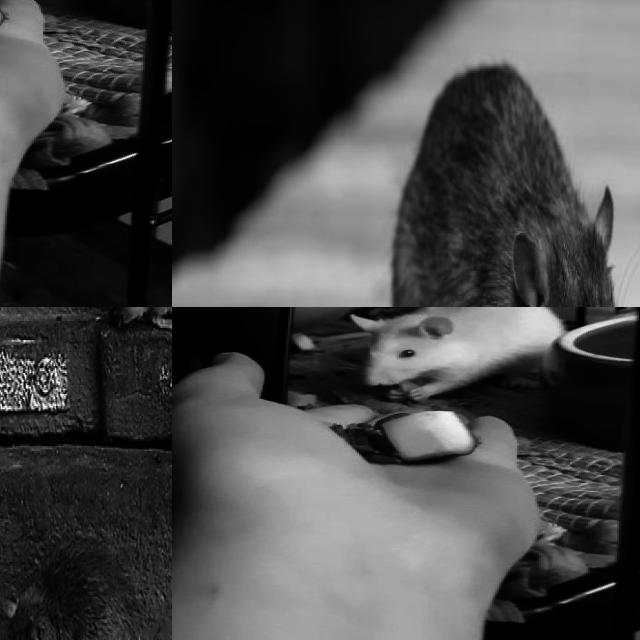rat: (393, 60, 634, 307), (346, 307, 562, 400), (0, 527, 172, 640)
